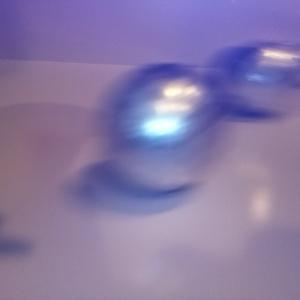alive_ball: (105, 62, 220, 192), (216, 43, 300, 113)
